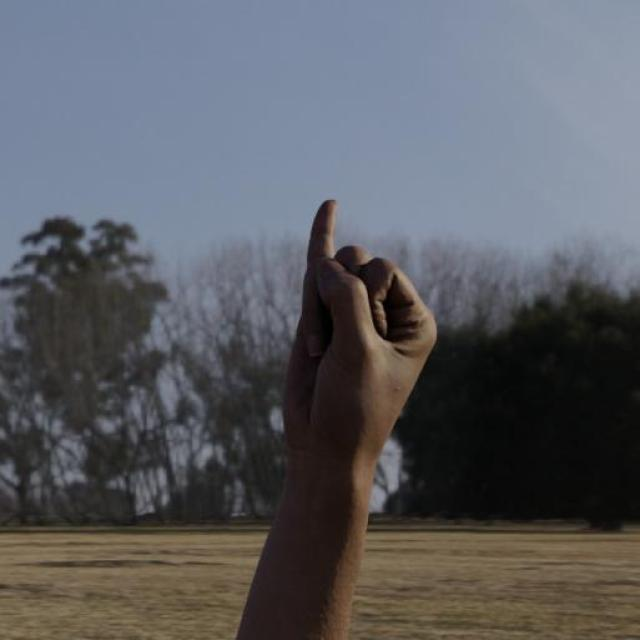I: (247, 158, 458, 497)
